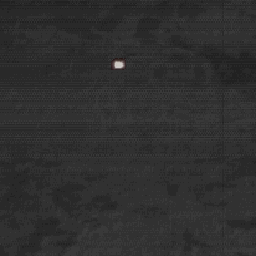Target: (112, 59, 125, 68)
